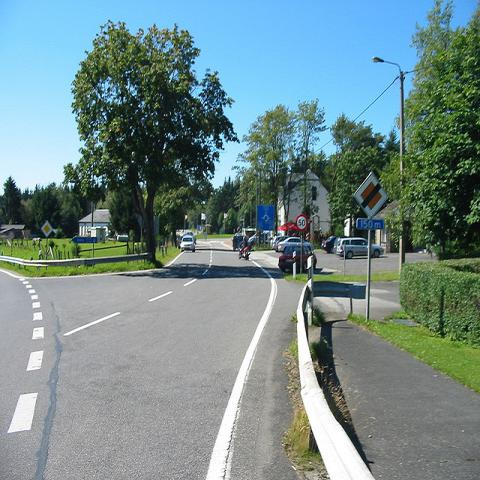car: (335, 236, 384, 260), (278, 245, 317, 273), (248, 231, 268, 249), (278, 237, 300, 252), (180, 234, 196, 253), (332, 235, 347, 254), (321, 236, 337, 252), (233, 235, 249, 251), (270, 235, 282, 250)
motorcycle: (238, 246, 251, 260)
